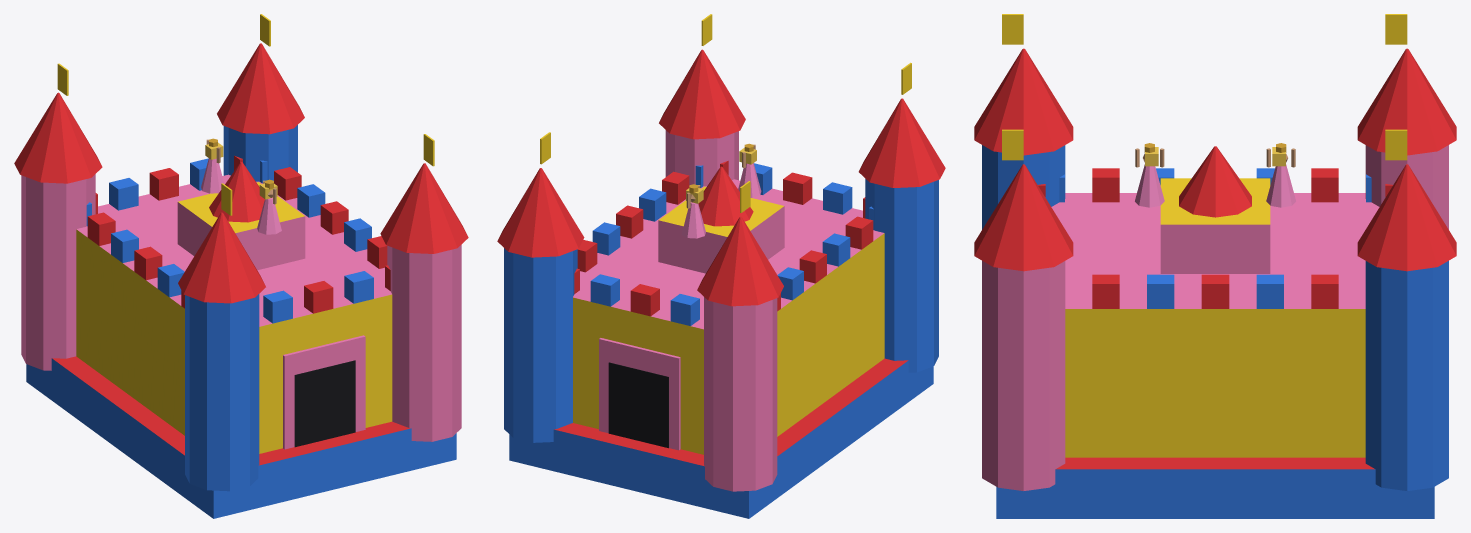
File: castillo_inflable.obj
The picture shows the model from 3 angles, left to right: view 1: azimuth 30°, elevation 25°; view 2: azimuth 150°, elevation 25°; view 3: azimuth 270°, elevation 25°; orthographic projection. The views are drawn at different scales.
Visible parts, largest first — view 1: castillo_inflable; view 2: castillo_inflable; view 3: castillo_inflable.
Boxes of the visible parts, box(x1,y1,x2,y2) form: castillo_inflable: box(14, 14, 468, 518); castillo_inflable: box(497, 14, 945, 518); castillo_inflable: box(974, 14, 1456, 518).
Size of the model in its own units: 13.8 by 15.2 by 17.61.
